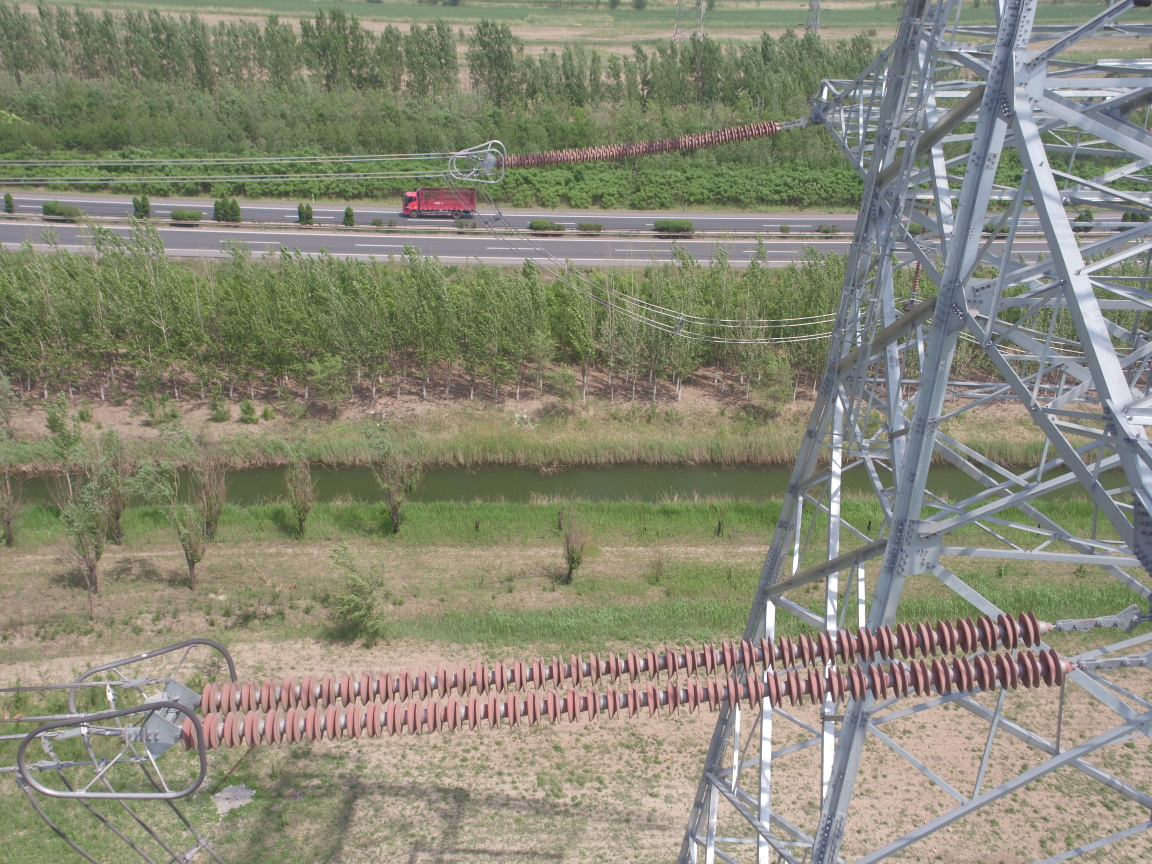insulator: (163, 603, 1111, 758), (490, 111, 794, 171)
